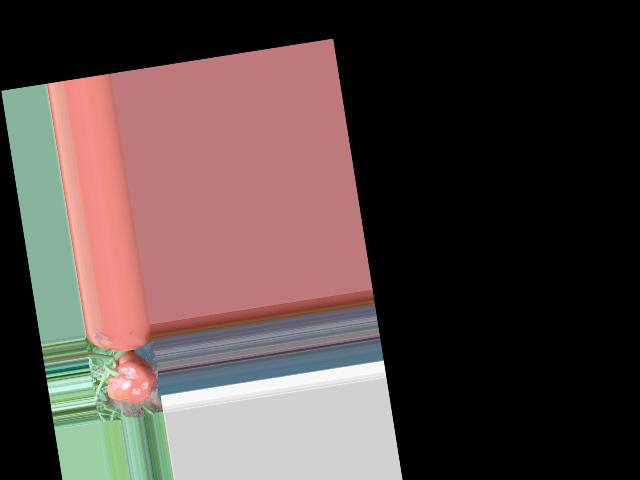bell_pepper: (97, 348, 162, 405)
